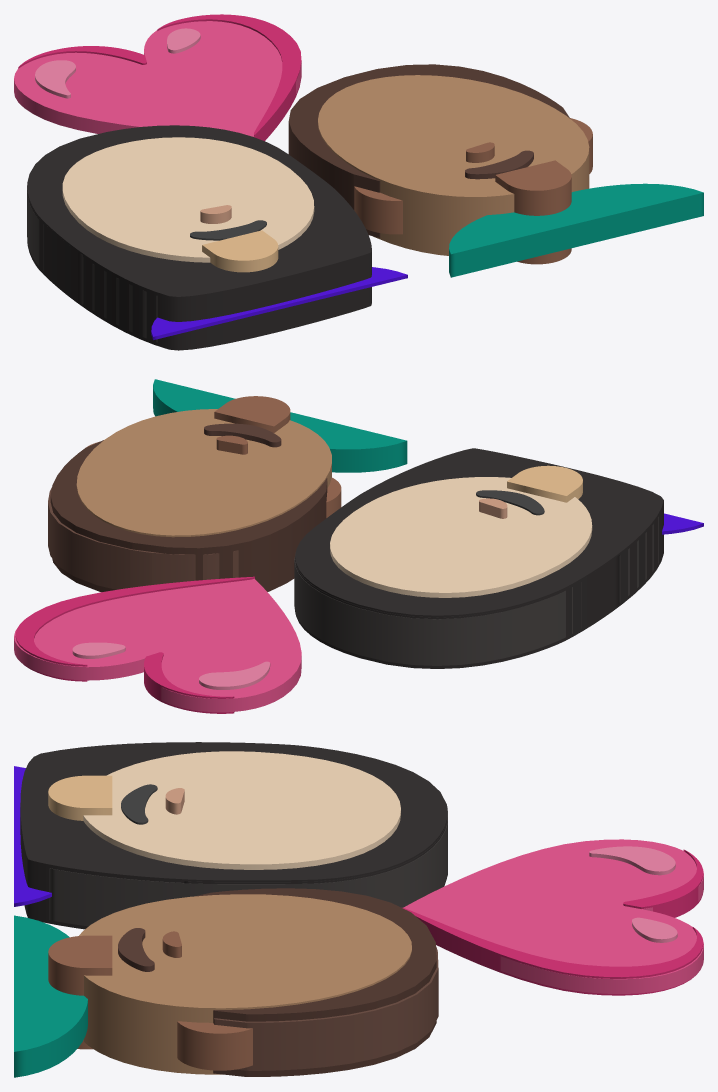
The model's file is emoji_u1f469_1f3fb_200d_2764_200d_1f468_1f3fd.glb.
3 views of the same model, one above another, from view 1: azimuth 30°, elevation 25°; view 2: azimuth 150°, elevation 25°; view 3: azimuth 270°, elevation 25° (orthographic). The views are drawn at different scales.
Parts seen in each view (by area): view 1: emoji_u1f469_1f3fb_200d_2764_200d_1f468_1f3fd; view 2: emoji_u1f469_1f3fb_200d_2764_200d_1f468_1f3fd; view 3: emoji_u1f469_1f3fb_200d_2764_200d_1f468_1f3fd.
Boxes of the visible parts, x1,y1,x2,y2 form: emoji_u1f469_1f3fb_200d_2764_200d_1f468_1f3fd: (14, 14, 703, 350); emoji_u1f469_1f3fb_200d_2764_200d_1f468_1f3fd: (14, 379, 703, 713); emoji_u1f469_1f3fb_200d_2764_200d_1f468_1f3fd: (14, 742, 703, 1077).
Size of the model in its own units: 0.0345 by 0.005 by 0.0338.
